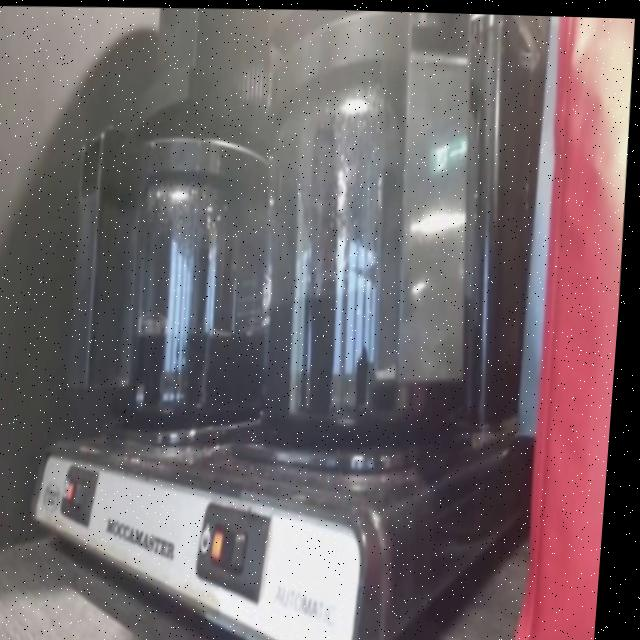coffee: (256, 122, 475, 432), (99, 210, 284, 450)
